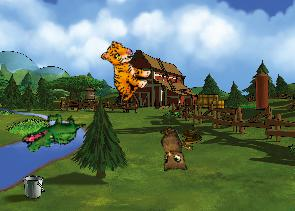crocodile: (19, 100, 87, 166)
owl: (147, 124, 192, 178)
tiger: (88, 37, 158, 105)
